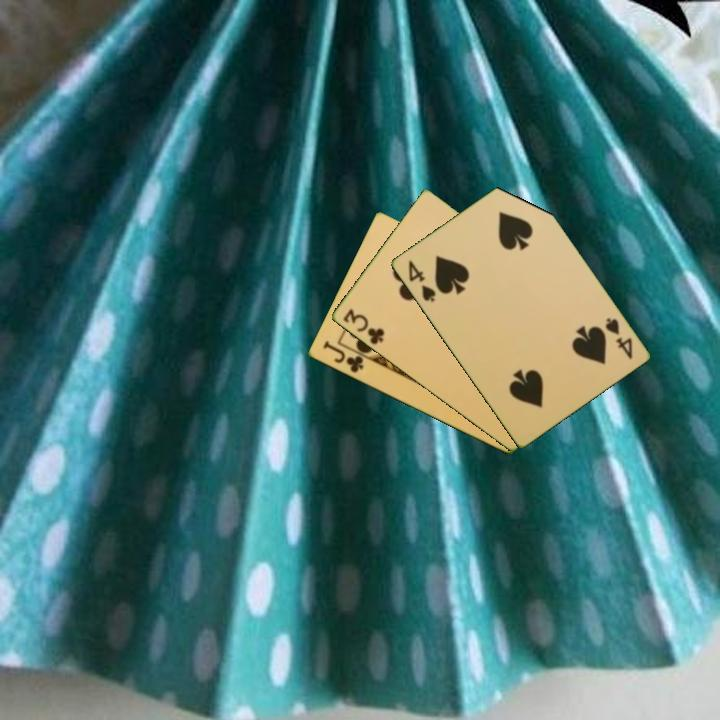3c: (339, 305, 387, 348)
4s: (404, 256, 438, 305), (601, 314, 635, 362)
Jc: (319, 337, 366, 376)
